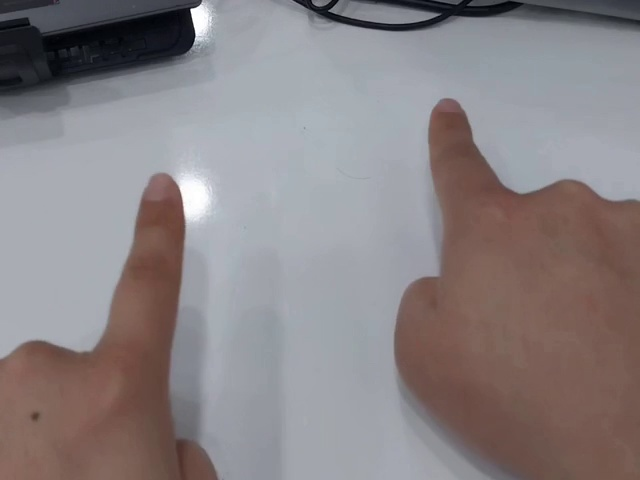fingers: (136, 172, 186, 227), (428, 97, 472, 134)
